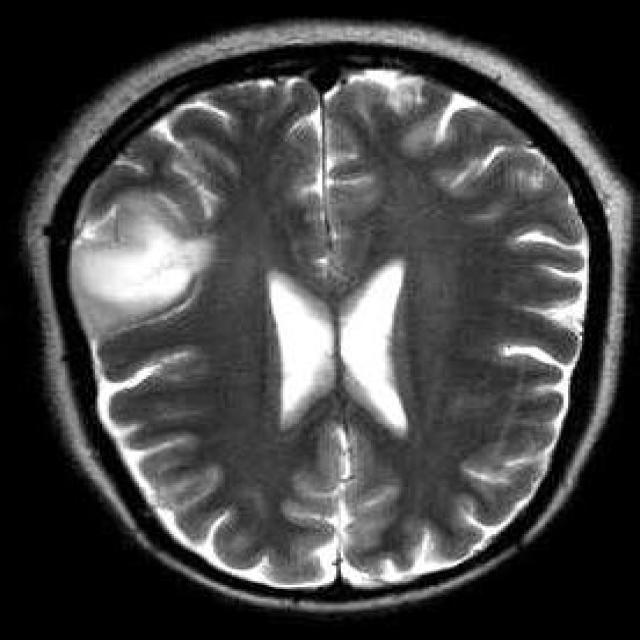no-tumor: (156, 170, 494, 511)
